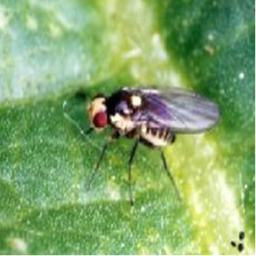liriomyza: (81, 84, 219, 206)
